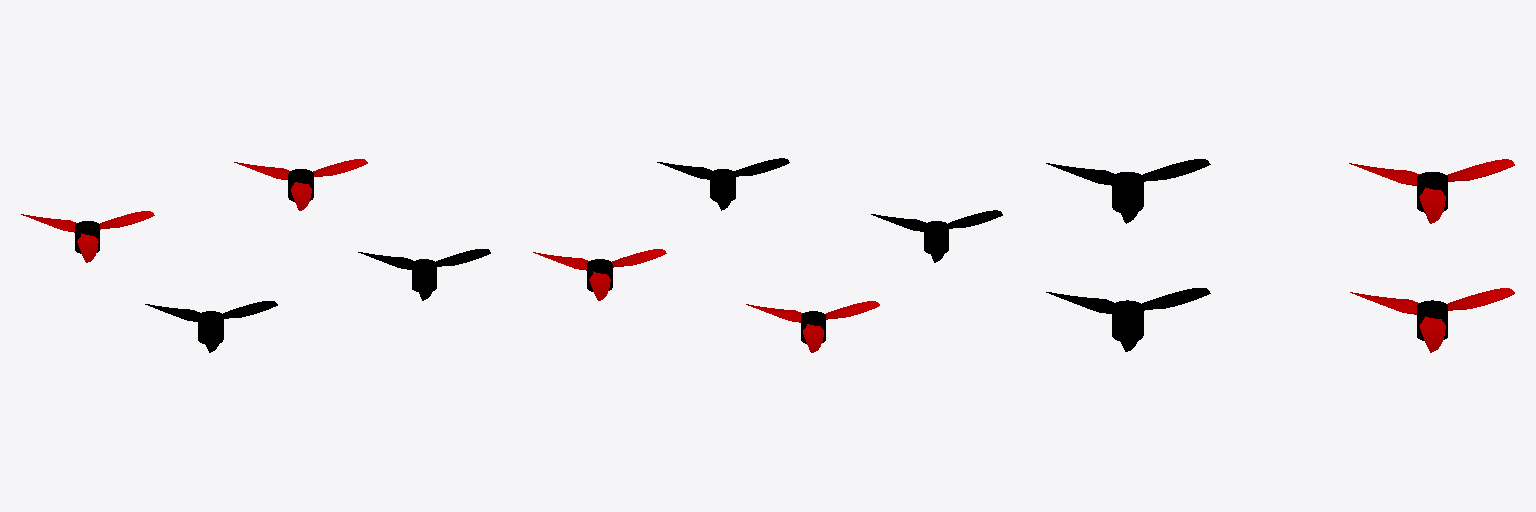
URDF robot description (quadrotor):
<?xml version="1.0"?>
<robot name="quadrotor">

    <material name="black"><color rgba="0 0 0 1"/></material>
    <material name="red"><color rgba="0.8 0 0 1"/></material>

    <link name="base_footprint" />

    <link name="base_link">
        <inertial>
            <mass value="1.5"/>
            <origin xyz="0 0 0" rpy="0 0 0"/>
            <inertia ixx="0.0347563" ixy="0" ixz="0" iyy="0.07" iyz="0" izz="0.0977"/>
        </inertial>
        <visual>
            <origin xyz="0 0 0" rpy="0 0 0"/>
            <geometry>
                <mesh filename="package://military_drones_description/models/quadrotor/meshes/drone_base.dae" scale="1 1 1"/>
            </geometry>
        </visual>
        <collision>
            <geometry><box size="0.47 0.47 0.28"/></geometry>
        </collision>
    </link>

    <joint name="base_joint" type="fixed">
        <parent link="base_footprint"/>
        <child link="base_link"/>
        <origin xyz="0 0 0.15" rpy="0 0 0"/>
    </joint>

    <link name="rotor_front_left">
        <visual>
            <geometry><cylinder radius="0.015" length="0.03"/></geometry>
            <material name="black"/>
        </visual>
        <collision><geometry><cylinder radius="0.015" length="0.03"/></geometry></collision>
        <inertial><mass value="0.02"/><inertia ixx="1e-4" ixy="0" ixz="0" iyy="1e-4" iyz="0" izz="1e-4"/></inertial>
    </link>
    <joint name="rotor_front_left_joint" type="fixed">
        <parent link="base_link"/><child link="rotor_front_left"/>
        <origin xyz="0.145 0.145 0.01" rpy="0 0 0"/>
    </joint>

    <link name="rotor_front_right">
        <visual>
            <geometry><cylinder radius="0.015" length="0.03"/></geometry>
            <material name="black"/>
        </visual>
        <collision><geometry><cylinder radius="0.015" length="0.03"/></geometry></collision>
        <inertial><mass value="0.02"/><inertia ixx="1e-4" ixy="0" ixz="0" iyy="1e-4" iyz="0" izz="1e-4"/></inertial>
    </link>
    <joint name="rotor_front_right_joint" type="fixed">
        <parent link="base_link"/><child link="rotor_front_right"/>
        <origin xyz="0.145 -0.145 0.01" rpy="0 0 0"/>
    </joint>

    <link name="rotor_rear_left">
        <visual>
            <geometry><cylinder radius="0.015" length="0.03"/></geometry>
            <material name="black"/>
        </visual>
        <collision><geometry><cylinder radius="0.015" length="0.03"/></geometry></collision>
        <inertial><mass value="0.02"/><inertia ixx="1e-4" ixy="0" ixz="0" iyy="1e-4" iyz="0" izz="1e-4"/></inertial>
    </link>
    <joint name="rotor_rear_left_joint" type="fixed">
        <parent link="base_link"/><child link="rotor_rear_left"/>
        <origin xyz="-0.145 0.145 0.01" rpy="0 0 0"/>
    </joint>

    <link name="rotor_rear_right">
        <visual>
            <geometry><cylinder radius="0.015" length="0.03"/></geometry>
            <material name="black"/>
        </visual>
        <collision><geometry><cylinder radius="0.015" length="0.03"/></geometry></collision>
        <inertial><mass value="0.02"/><inertia ixx="1e-4" ixy="0" ixz="0" iyy="1e-4" iyz="0" izz="1e-4"/></inertial>
    </link>
    <joint name="rotor_rear_right_joint" type="fixed">
        <parent link="base_link"/><child link="rotor_rear_right"/>
        <origin xyz="-0.145 -0.145 0.01" rpy="0 0 0"/>
    </joint>

    <link name="prop_front_left">
        <inertial>
            <mass value="0.005"/>
            <inertia ixx="9.75e-07" ixy="0" ixz="0" iyy="4.17041e-05" iyz="0" izz="4.26041e-05"/>
        </inertial>
        <visual>
            <origin xyz="0 0 0" rpy="0 0 0"/>
            <geometry>
                <mesh filename="package://military_drones_description/models/quadrotor/meshes/propeller_red.dae" scale="1 1 1"/>
            </geometry>
        </visual>
        <collision>
            <origin xyz="0 0 0" rpy="0 0 0"/>
            <geometry><cylinder radius="0.14" length="0.008"/></geometry>
        </collision>
    </link>

    <link name="prop_front_right">
        <inertial>
            <mass value="0.005"/>
            <inertia ixx="9.75e-07" ixy="0" ixz="0" iyy="4.17041e-05" iyz="0" izz="4.26041e-05"/>
        </inertial>
        <visual>
            <origin xyz="0 0 0" rpy="0 0 0"/>
            <geometry>
                <mesh filename="package://military_drones_description/models/quadrotor/meshes/propeller_black.dae" scale="1 1 1"/>
            </geometry>
        </visual>
        <collision>
            <origin xyz="0 0 0" rpy="0 0 0"/>
            <geometry><cylinder radius="0.14" length="0.008"/></geometry>
        </collision>
    </link>

    <link name="prop_rear_left">
        <inertial>
            <mass value="0.005"/>
            <inertia ixx="9.75e-07" ixy="0" ixz="0" iyy="4.17041e-05" iyz="0" izz="4.26041e-05"/>
        </inertial>
        <visual>
            <origin xyz="0 0 0" rpy="0 0 0"/>
            <geometry>
                <mesh filename="package://military_drones_description/models/quadrotor/meshes/propeller_red.dae" scale="1 1 1"/>
            </geometry>
        </visual>
        <collision>
            <origin xyz="0 0 0" rpy="0 0 0"/>
            <geometry><cylinder radius="0.14" length="0.008"/></geometry>
        </collision>
    </link>

    <link name="prop_rear_right">
        <inertial>
            <mass value="0.005"/>
            <inertia ixx="9.75e-07" ixy="0" ixz="0" iyy="4.17041e-05" iyz="0" izz="4.26041e-05"/>
        </inertial>
        <visual>
            <origin xyz="0 0 0" rpy="0 0 0"/>
            <geometry>
                <mesh filename="package://military_drones_description/models/quadrotor/meshes/propeller_black.dae" scale="1 1 1"/>
            </geometry>
        </visual>
        <collision>
            <origin xyz="0 0 0" rpy="0 0 0"/>
            <geometry><cylinder radius="0.14" length="0.008"/></geometry>
        </collision>
    </link>

    <joint name="front_left_prop_joint" type="continuous">
        <parent link="base_link"/><child link="prop_front_left"/>
        <origin xyz="0.145 0.145 0.02" rpy="0 0 0"/><axis xyz="0 0 1"/>
    </joint>

    <joint name="front_right_prop_joint" type="continuous">
        <parent link="base_link"/><child link="prop_front_right"/>
        <origin xyz="0.145 -0.145 0.02" rpy="0 0 0"/><axis xyz="0 0 1"/>
    </joint>

    <joint name="rear_left_prop_joint" type="continuous">
        <parent link="base_link"/><child link="prop_rear_left"/>
        <origin xyz="-0.145 0.145 0.02" rpy="0 0 0"/><axis xyz="0 0 1"/>
    </joint>

    <joint name="rear_right_prop_joint" type="continuous">
        <parent link="base_link"/><child link="prop_rear_right"/>
        <origin xyz="-0.145 -0.145 0.02" rpy="0 0 0"/><axis xyz="0 0 1"/>
    </joint>

    <gazebo>
        <plugin filename="gz-sim-multicopter-motor-model-system" name="gz::sim::systems::MulticopterMotorModel">
            <robotNamespace>quadrotor</robotNamespace>
            <jointName>front_left_prop_joint</jointName>
            <linkName>prop_front_left</linkName>
            <turningDirection>ccw</turningDirection>
            <timeConstantUp>0.0125</timeConstantUp>
            <timeConstantDown>0.025</timeConstantDown>
            <maxRotVelocity>800.0</maxRotVelocity>
            <motorConstant>8.54858e-06</motorConstant>
            <momentConstant>0.016</momentConstant>
            <commandSubTopic>motor_speed</commandSubTopic>
            <motorNumber>0</motorNumber>
            <motorSpeedPubTopic>motor_speed/0</motorSpeedPubTopic>
            <motorType>velocity</motorType>
        </plugin>

        <plugin filename="gz-sim-multicopter-motor-model-system" name="gz::sim::systems::MulticopterMotorModel">
            <robotNamespace>quadrotor</robotNamespace>
            <jointName>front_right_prop_joint</jointName>
            <linkName>prop_front_right</linkName>
            <turningDirection>cw</turningDirection>
            <timeConstantUp>0.0125</timeConstantUp>
            <timeConstantDown>0.025</timeConstantDown>
            <maxRotVelocity>800.0</maxRotVelocity>
            <motorConstant>8.54858e-06</motorConstant>
            <momentConstant>0.016</momentConstant>
            <commandSubTopic>motor_speed</commandSubTopic>
            <motorNumber>1</motorNumber>
            <motorSpeedPubTopic>motor_speed/1</motorSpeedPubTopic>
            <motorType>velocity</motorType>
        </plugin>

        <plugin filename="gz-sim-multicopter-motor-model-system" name="gz::sim::systems::MulticopterMotorModel">
            <robotNamespace>quadrotor</robotNamespace>
            <jointName>rear_left_prop_joint</jointName>
            <linkName>prop_rear_left</linkName>
            <turningDirection>cw</turningDirection>
            <timeConstantUp>0.0125</timeConstantUp>
            <timeConstantDown>0.025</timeConstantDown>
            <maxRotVelocity>800.0</maxRotVelocity>
            <motorConstant>8.54858e-06</motorConstant>
            <momentConstant>0.016</momentConstant>
            <commandSubTopic>motor_speed</commandSubTopic>
            <motorNumber>2</motorNumber>
            <motorSpeedPubTopic>motor_speed/2</motorSpeedPubTopic>
            <motorType>velocity</motorType>
        </plugin>

        <plugin filename="gz-sim-multicopter-motor-model-system" name="gz::sim::systems::MulticopterMotorModel">
            <robotNamespace>quadrotor</robotNamespace>
            <jointName>rear_right_prop_joint</jointName>
            <linkName>prop_rear_right</linkName>
            <turningDirection>ccw</turningDirection>
            <timeConstantUp>0.0125</timeConstantUp>
            <timeConstantDown>0.025</timeConstantDown>
            <maxRotVelocity>800.0</maxRotVelocity>
            <motorConstant>8.54858e-06</motorConstant>
            <momentConstant>0.016</momentConstant>
            <commandSubTopic>motor_speed</commandSubTopic>
            <motorNumber>3</motorNumber>
            <motorSpeedPubTopic>motor_speed/3</motorSpeedPubTopic>
            <motorType>velocity</motorType>
        </plugin>

        <plugin filename="gz-sim-multicopter-control-system" name="gz::sim::systems::MulticopterVelocityControl">
            <robotNamespace>quadrotor</robotNamespace>
            <commandSubTopic>cmd_vel</commandSubTopic>
            <enableSubTopic>enable</enableSubTopic>
            <comLinkName>base_footprint</comLinkName>
            <velocityGain>2.7 2.7 2.7</velocityGain>
            <attitudeGain>2 3 0.15</attitudeGain>
            <angularRateGain>0.4 0.52 0.18</angularRateGain>
            <maximumLinearAcceleration>2 2 2</maximumLinearAcceleration>
            <rotorConfiguration>
                <rotor>
                    <jointName>front_left_prop_joint</jointName>
                    <forceConstant>8.54858e-06</forceConstant>
                    <momentConstant>0.016</momentConstant>
                    <direction>1</direction>
                </rotor>
                <rotor>
                    <jointName>front_right_prop_joint</jointName>
                    <forceConstant>8.54858e-06</forceConstant>
                    <momentConstant>0.016</momentConstant>
                    <direction>-1</direction>
                </rotor>
                <rotor>
                    <jointName>rear_left_prop_joint</jointName>
                    <forceConstant>8.54858e-06</forceConstant>
                    <momentConstant>0.016</momentConstant>
                    <direction>-1</direction>
                </rotor>
                <rotor>
                    <jointName>rear_right_prop_joint</jointName>
                    <forceConstant>8.54858e-06</forceConstant>
                    <momentConstant>0.016</momentConstant>
                    <direction>1</direction>
                </rotor>
            </rotorConfiguration>
        </plugin>

        <plugin filename="gz-sim-joint-state-publisher-system" name="gz::sim::systems::JointStatePublisher">
            <joint_name>front_left_prop_joint</joint_name>
            <joint_name>front_right_prop_joint</joint_name>
            <joint_name>rear_left_prop_joint</joint_name>
            <joint_name>rear_right_prop_joint</joint_name>
        </plugin>
    </gazebo>

</robot>

--- Facts derived from the render (not from the file) ---
3 views of the same robot in one strip: view 1: azimuth 30°, elevation 25°; view 2: azimuth 150°, elevation 25°; view 3: azimuth 270°, elevation 25° (orthographic).
Robot: quadrotor — 10 links, 9 joints (4 continuous, 5 fixed); root link base_footprint; default pose: all joints at 0.
Links seen in each view (by area): view 1: prop_rear_left, prop_front_right, prop_rear_right, prop_front_left; view 2: prop_rear_right, prop_rear_left, prop_front_right, prop_front_left; view 3: prop_rear_left, prop_front_left, prop_rear_right, prop_front_right, rotor_rear_right, rotor_front_right, rotor_front_left, rotor_rear_left.
Link boxes in pixels (x1,y1,x2,y2): prop_rear_left: (21,211,154,262); prop_front_right: (358,249,490,300); prop_rear_right: (145,301,277,352); prop_front_left: (234,159,367,210); prop_rear_right: (871,210,1002,262); prop_rear_left: (746,301,879,352); prop_front_right: (657,158,789,210); prop_front_left: (533,249,666,300); prop_rear_left: (1349,159,1514,223); prop_front_left: (1350,288,1514,352); prop_rear_right: (1046,159,1210,223); prop_front_right: (1046,288,1210,351); rotor_rear_right: (1112,172,1143,212); rotor_front_right: (1112,300,1143,340); rotor_front_left: (1417,300,1447,340); rotor_rear_left: (1417,172,1447,212).
Size in the robot's own frame: 0.4287 by 0.4483 by 0.03 metres.
Meshes: 3 distinct files referenced, 4 mesh visuals loaded (2 Collada DAE); not drawn: 1 (reference not matched to a file when rendering).
